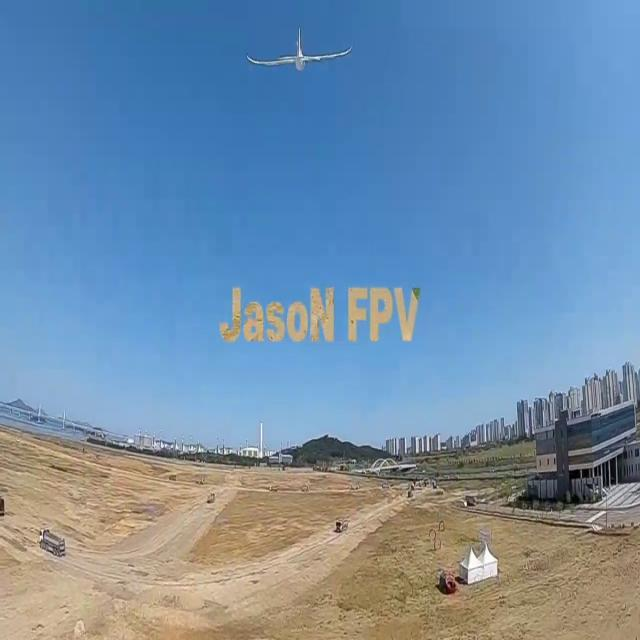iha: (277, 20, 318, 78)
